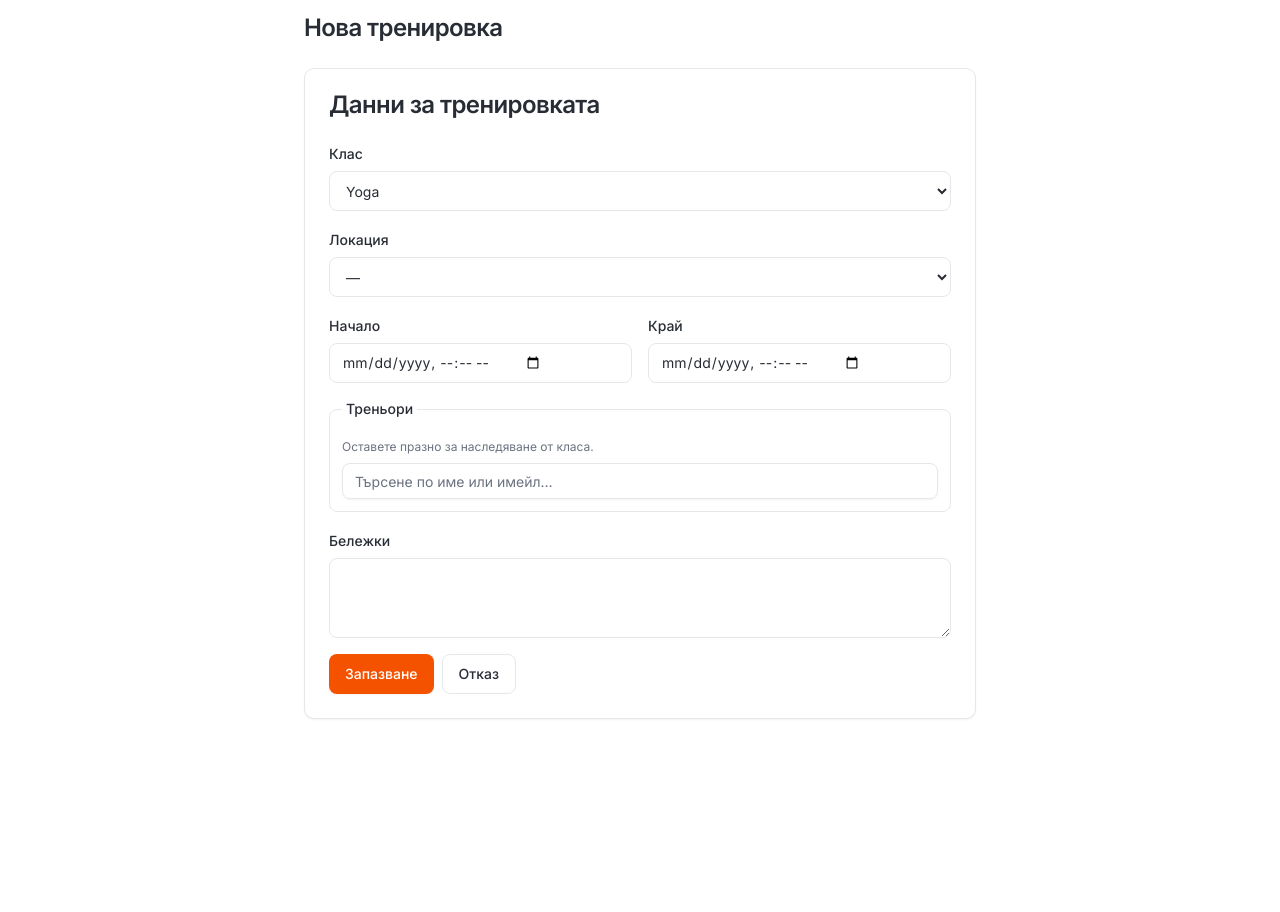
NewSessionPage — ?classId= prefill › submitted unchanged, the created session references the class from the parameter
Select "Main Hall" in the dropdown with id "locationId" at (640, 277), box x1=329 y1=257 x2=951 y2=297
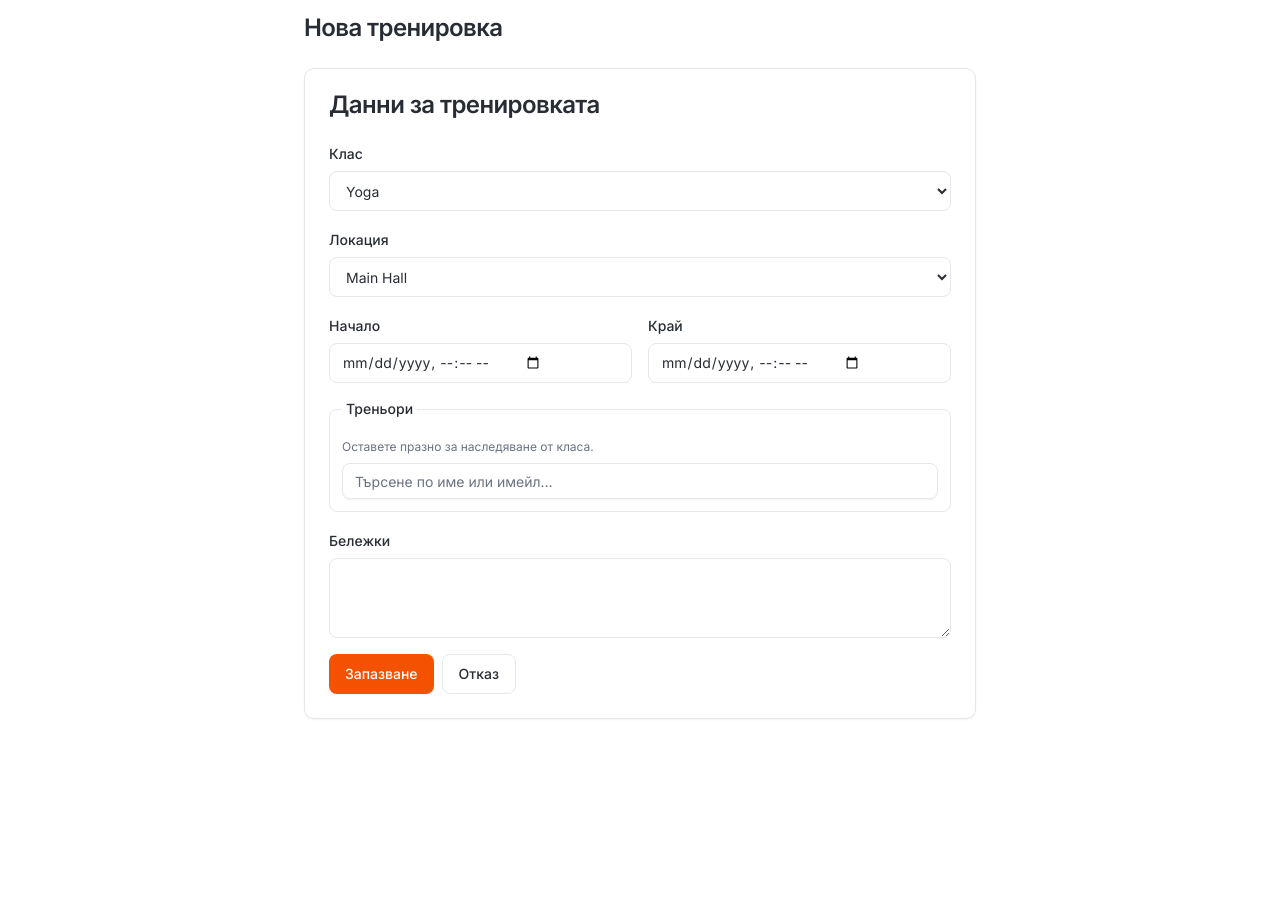
Type "2026-06-01T18:00" into the field with id "startsAt" at (480, 363), box x1=329 y1=343 x2=632 y2=383
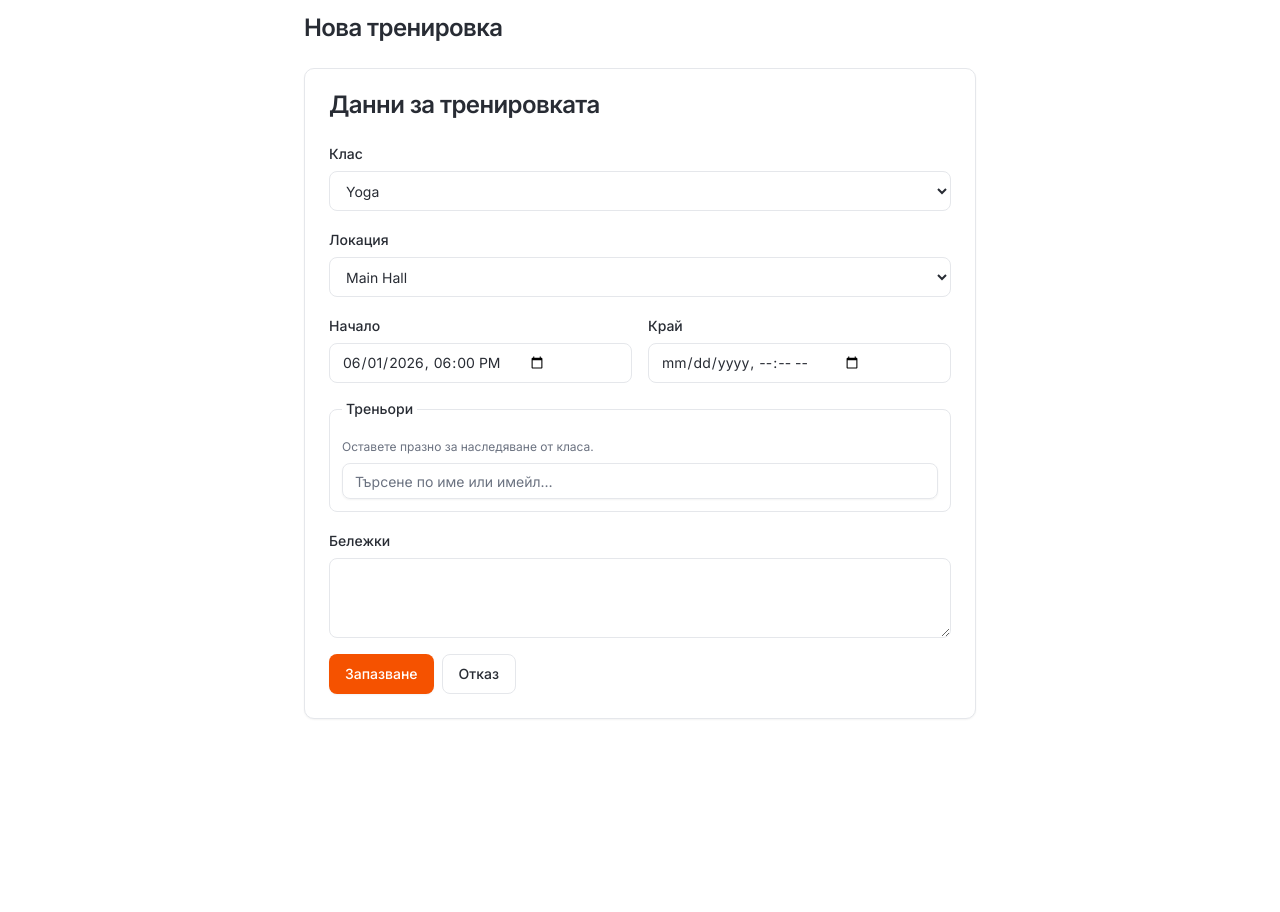
Type "2026-06-01T19:00" into the field with id "endsAt" at (800, 363), box x1=648 y1=343 x2=951 y2=383
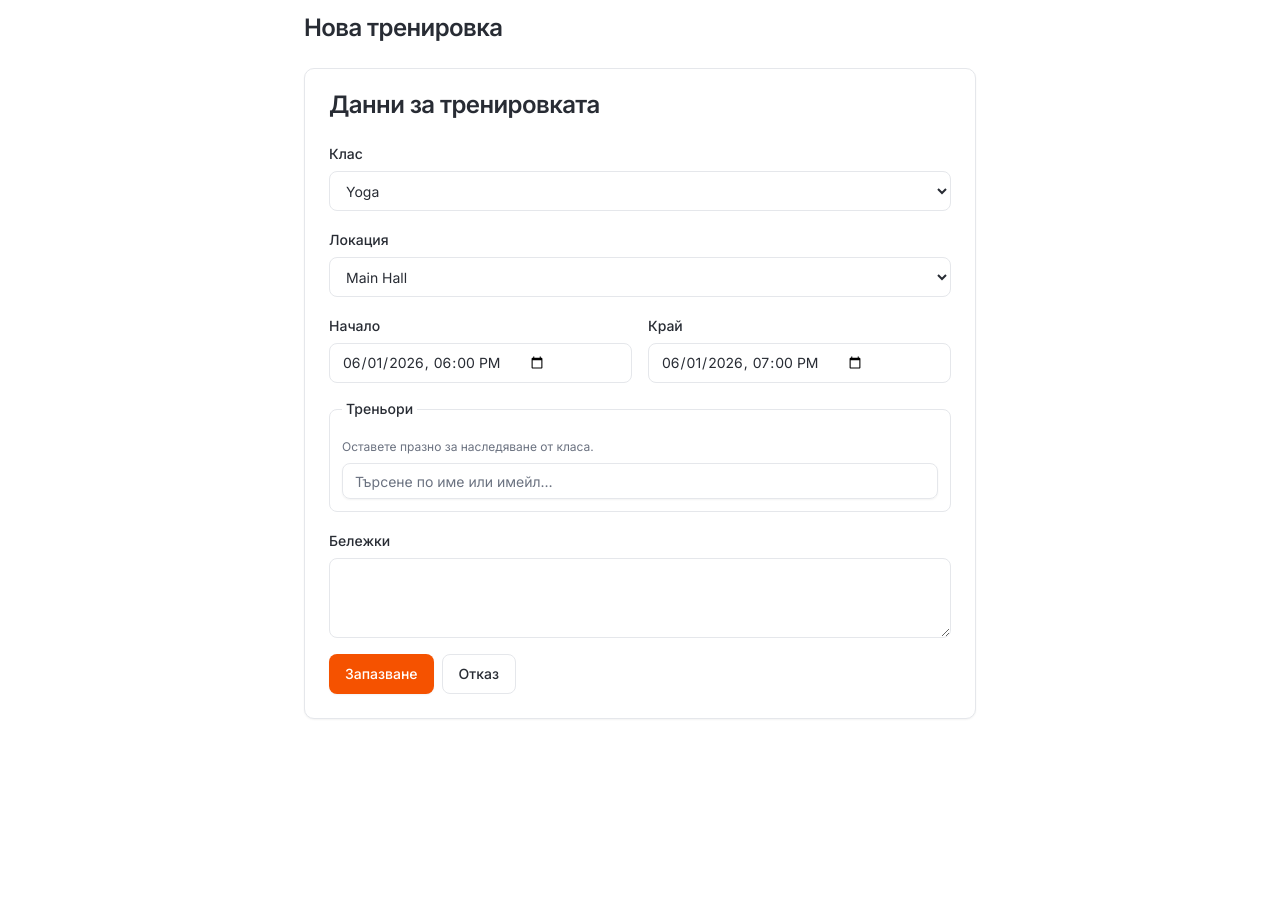
Click the submit button at (381, 674), box x1=329 y1=654 x2=434 y2=694
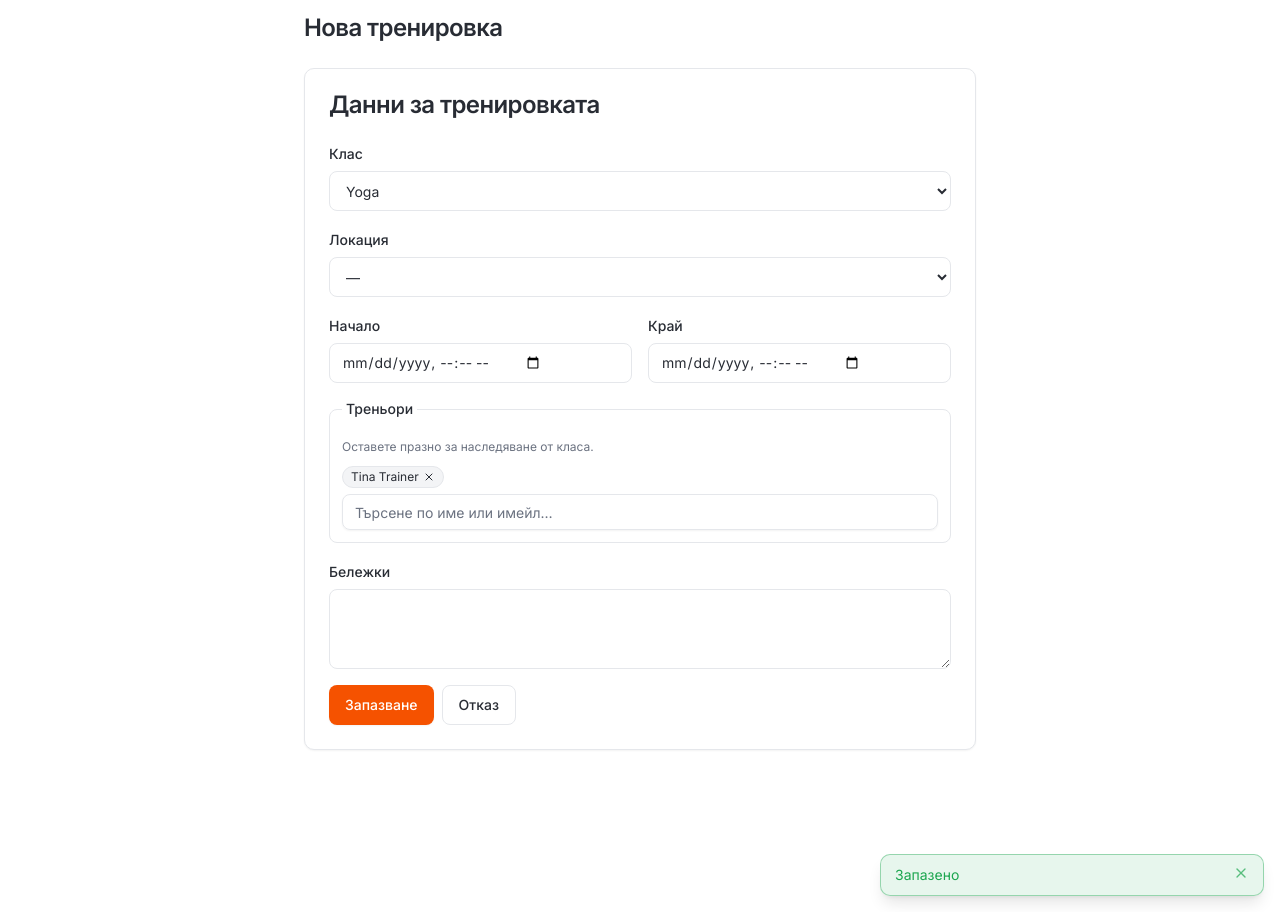
expect the dropdown with id "classId" shows "Yoga": met, box x1=329 y1=171 x2=951 y2=211
expect the text "Запазено" is shown: met, box x1=895 y1=866 x2=959 y2=883
expect the field with id "startsAt" is empty: met, box x1=329 y1=343 x2=632 y2=383
